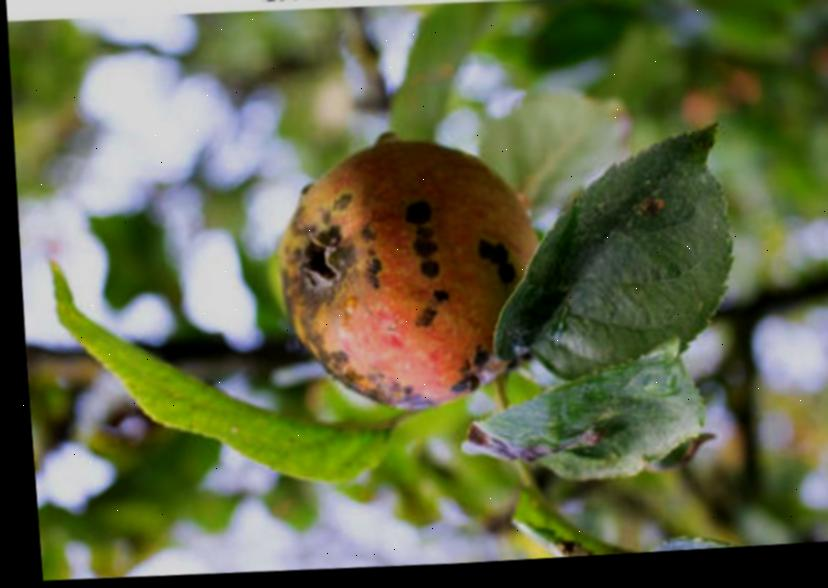SCAB: (240, 124, 580, 458)
